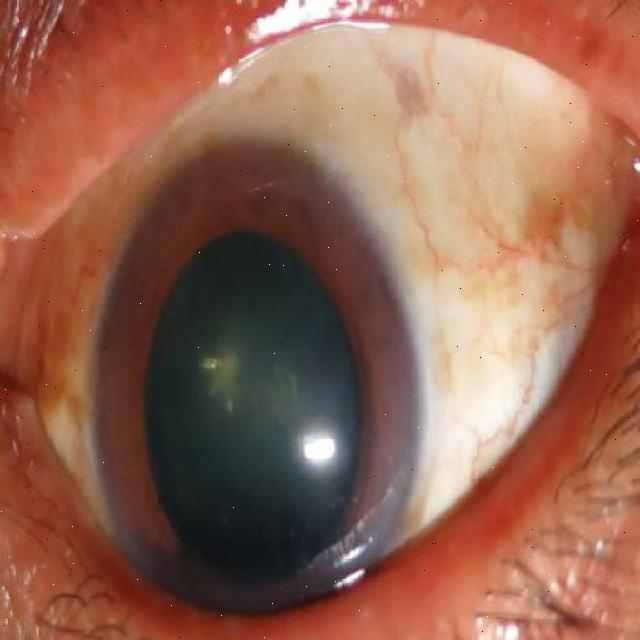Cataract: (99, 140, 422, 628)
